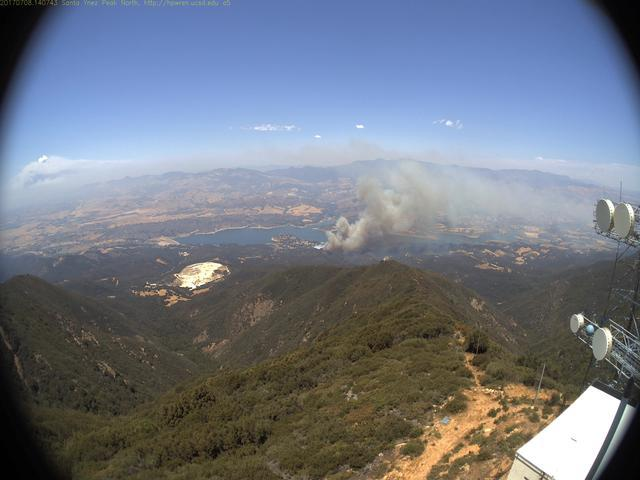smoke: (311, 151, 586, 254)
